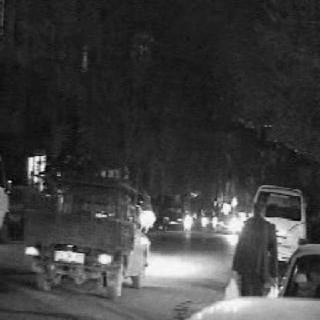other: (187, 200, 250, 234)
